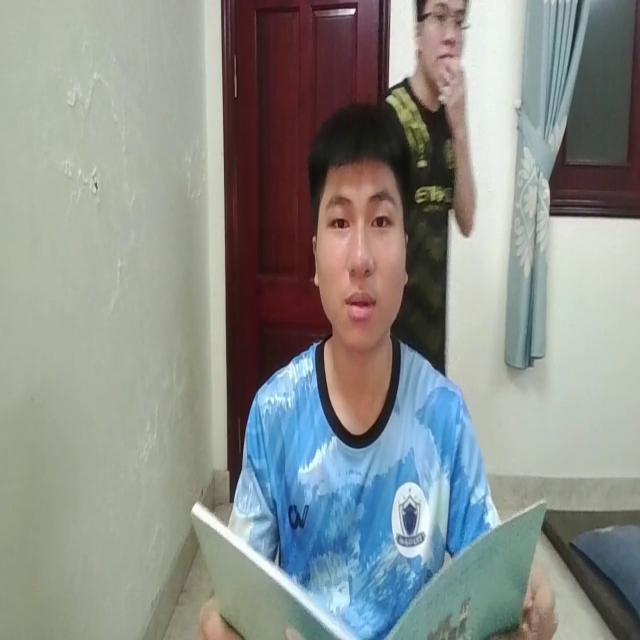book: (186, 479, 547, 640)
extra_person: (375, 1, 477, 364)
student: (236, 94, 494, 542)
